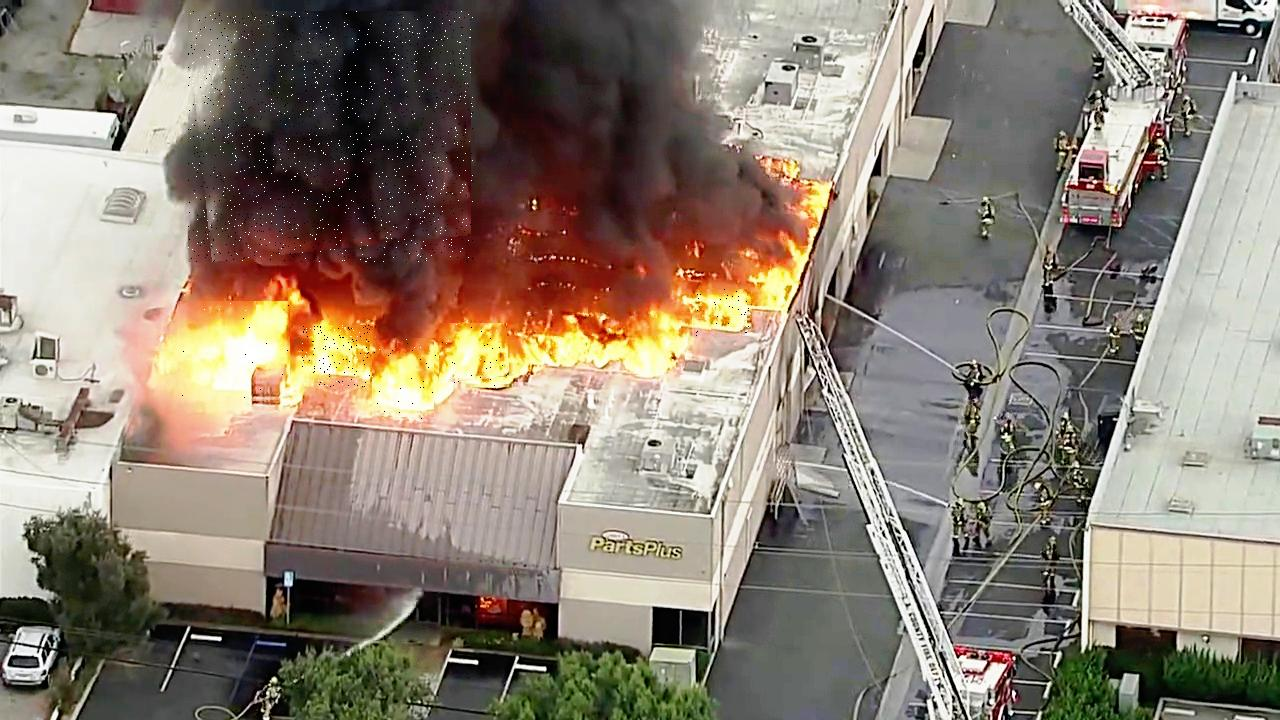fire: (506, 302, 685, 375), (177, 302, 290, 410), (373, 339, 437, 420), (439, 324, 519, 387), (302, 325, 370, 387), (693, 289, 750, 336)
smoke: (189, 11, 474, 262)
